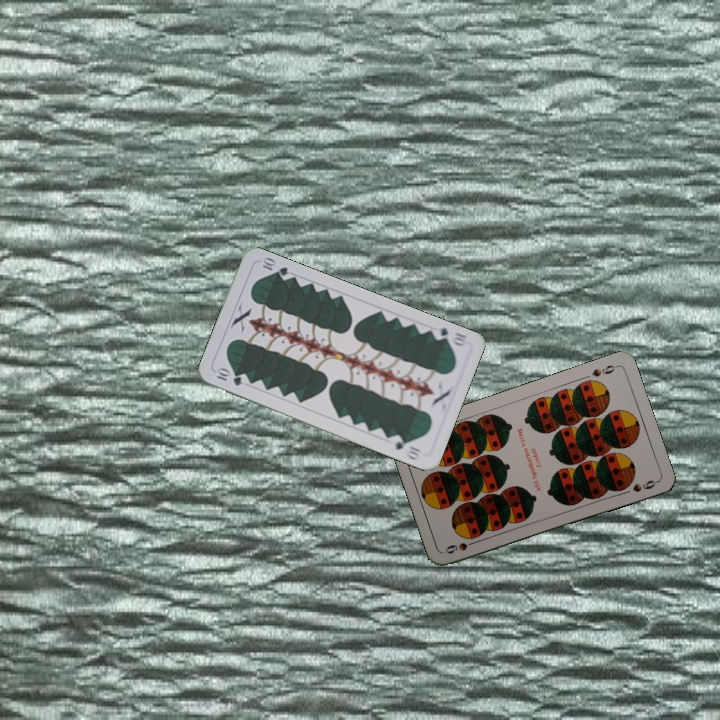G10: (429, 323, 470, 349), (212, 365, 245, 388)
S9: (441, 536, 481, 556), (588, 361, 620, 379)
